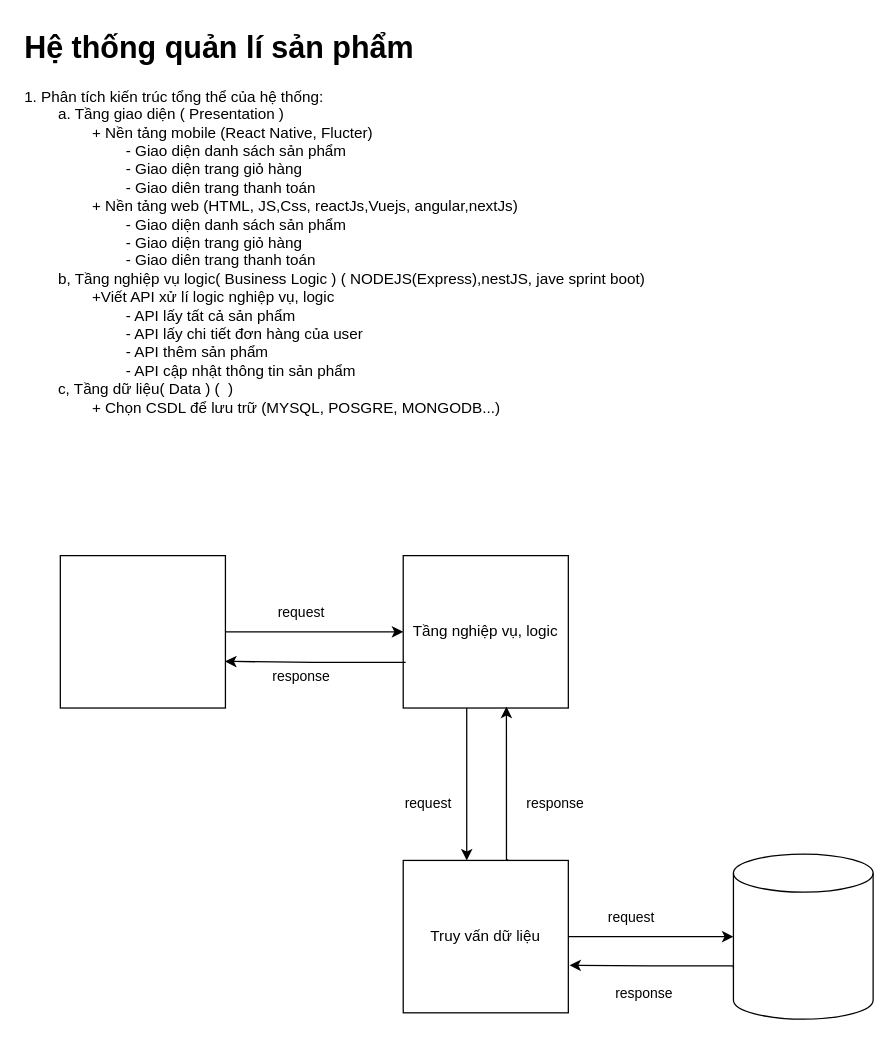
Some shapes in this 895 by 1041 pixel diagram are drawn without their labels. The box of each missing label's shape, as (x1, y1, x2, y2) in pixels:
DB: (732, 853, 873, 1019)
Giao diện: (59, 554, 225, 708)
